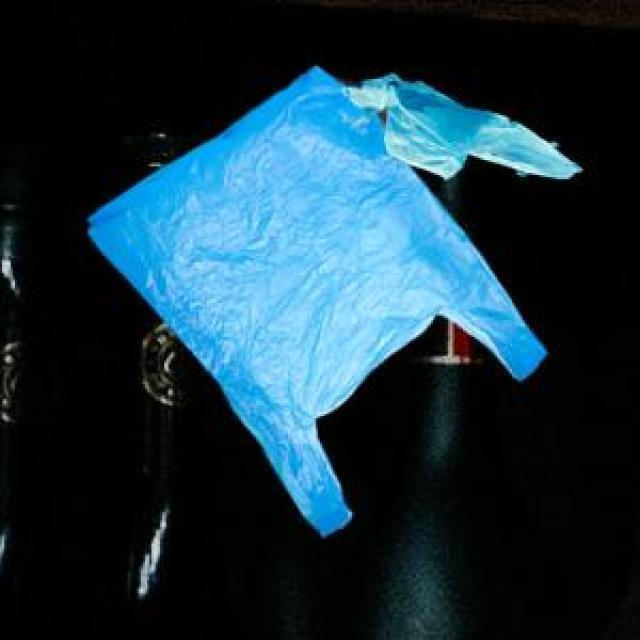waste: (89, 68, 580, 536)
